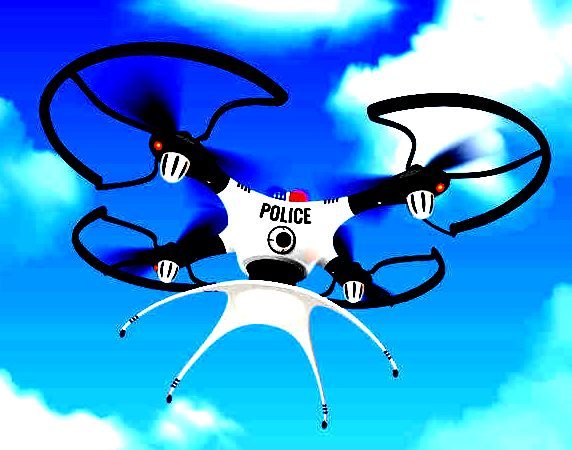Drone: (37, 40, 548, 313)
